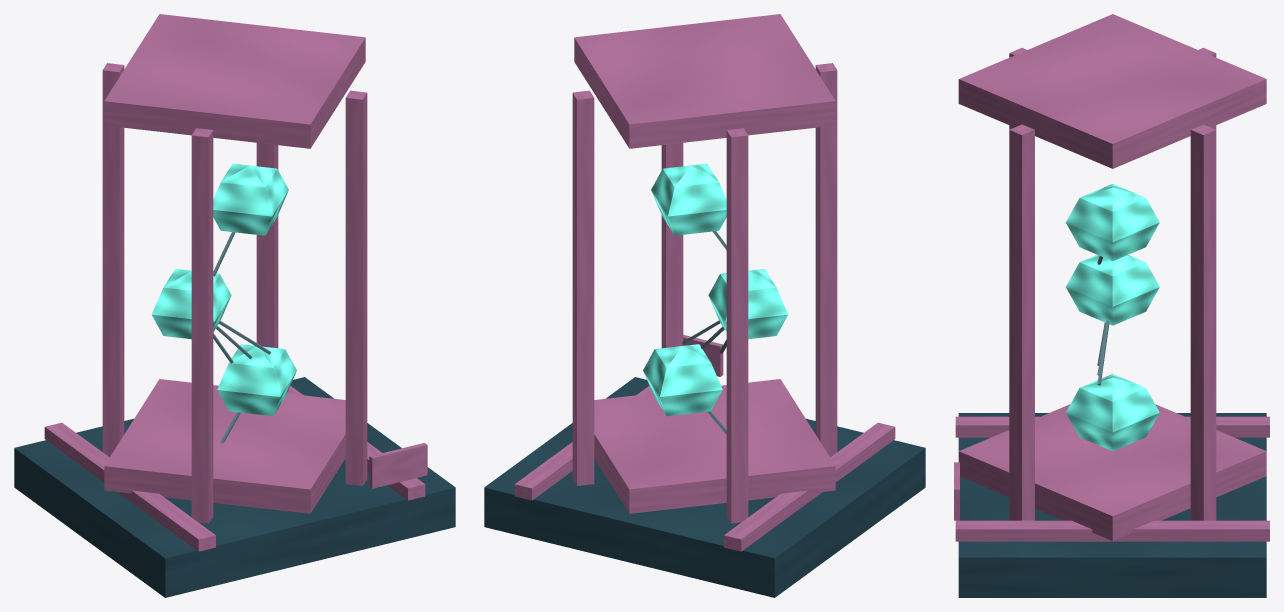
Rendered from atlas100-s065-a01.lod2.glb.
3 renders of one model, left to right at view 1: azimuth 30°, elevation 25°; view 2: azimuth 150°, elevation 25°; view 3: azimuth 270°, elevation 25°, orthographic.
Parts seen in each view (by area): view 1: atlas100-s065-a01:part-000, atlas100-s065-a01:part-004, atlas100-s065-a01:part-003, atlas100-s065-a01:part-005, atlas100-s065-a01:part-007, atlas100-s065-a01:part-009, atlas100-s065-a01:part-023, atlas100-s065-a01:part-013, atlas100-s065-a01:part-001, atlas100-s065-a01:part-011, atlas100-s065-a01:part-018, atlas100-s065-a01:part-028 (+1 smaller); view 2: atlas100-s065-a01:part-000, atlas100-s065-a01:part-004, atlas100-s065-a01:part-003, atlas100-s065-a01:part-011, atlas100-s065-a01:part-009, atlas100-s065-a01:part-007, atlas100-s065-a01:part-013, atlas100-s065-a01:part-023, atlas100-s065-a01:part-001, atlas100-s065-a01:part-005, atlas100-s065-a01:part-018, atlas100-s065-a01:part-002 (+1 smaller); view 3: atlas100-s065-a01:part-004, atlas100-s065-a01:part-000, atlas100-s065-a01:part-003, atlas100-s065-a01:part-011, atlas100-s065-a01:part-005, atlas100-s065-a01:part-002, atlas100-s065-a01:part-023, atlas100-s065-a01:part-013, atlas100-s065-a01:part-018, atlas100-s065-a01:part-001.
Part boxes in pixels (<box>): atlas100-s065-a01:part-000: <box>14,377,455,597</box>; atlas100-s065-a01:part-004: <box>104,14,365,148</box>; atlas100-s065-a01:part-003: <box>104,379,345,513</box>; atlas100-s065-a01:part-005: <box>345,90,367,485</box>; atlas100-s065-a01:part-007: <box>191,128,213,523</box>; atlas100-s065-a01:part-009: <box>102,63,124,457</box>; atlas100-s065-a01:part-023: <box>213,163,288,235</box>; atlas100-s065-a01:part-013: <box>217,344,296,416</box>; atlas100-s065-a01:part-001: <box>44,422,215,551</box>; atlas100-s065-a01:part-011: <box>256,25,278,348</box>; atlas100-s065-a01:part-018: <box>151,269,231,339</box>; atlas100-s065-a01:part-028: <box>369,443,427,488</box>; atlas100-s065-a01:part-000: <box>484,377,925,597</box>; atlas100-s065-a01:part-004: <box>574,14,835,148</box>; atlas100-s065-a01:part-003: <box>594,379,835,513</box>; atlas100-s065-a01:part-011: <box>572,90,594,485</box>; atlas100-s065-a01:part-009: <box>726,128,748,523</box>; atlas100-s065-a01:part-007: <box>815,63,837,457</box>; atlas100-s065-a01:part-013: <box>643,344,722,416</box>; atlas100-s065-a01:part-023: <box>651,163,726,235</box>; atlas100-s065-a01:part-001: <box>724,422,895,551</box>; atlas100-s065-a01:part-005: <box>661,25,683,348</box>; atlas100-s065-a01:part-018: <box>708,269,788,339</box>; atlas100-s065-a01:part-002: <box>514,385,652,500</box>; atlas100-s065-a01:part-004: <box>958,14,1266,168</box>; atlas100-s065-a01:part-000: <box>958,413,1266,597</box>; atlas100-s065-a01:part-003: <box>958,404,1266,540</box>; atlas100-s065-a01:part-011: <box>1190,124,1216,520</box>; atlas100-s065-a01:part-005: <box>1009,124,1034,520</box>; atlas100-s065-a01:part-002: <box>955,520,1269,541</box>; atlas100-s065-a01:part-023: <box>1066,184,1159,260</box>; atlas100-s065-a01:part-013: <box>1066,374,1159,451</box>; atlas100-s065-a01:part-018: <box>1066,255,1159,325</box>; atlas100-s065-a01:part-001: <box>955,416,1269,437</box>.
Size of the model in its own units: 2 by 2.88 by 1.85.
Materials: 4 (4 with a texture image).
